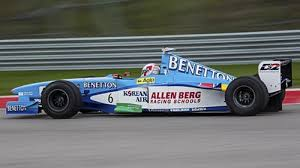FormulaOneCar: (4, 45, 295, 120)
